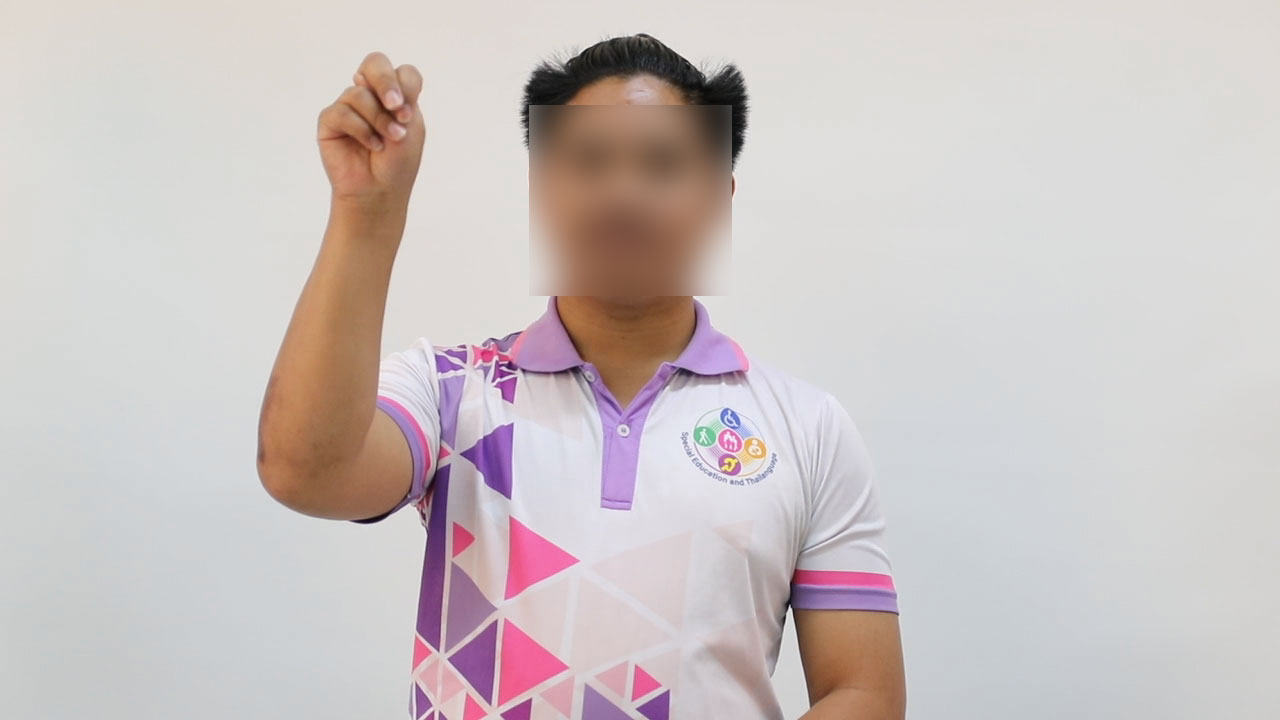nor: (311, 45, 437, 213)
